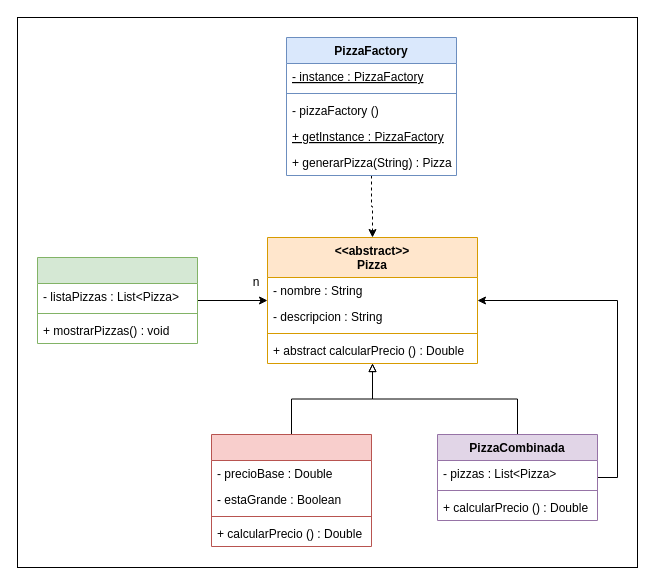
Some shapes in this 655 by 585 pixel diagram are drawn without their labels. Each missing label, with the box of its shape:
PizzaSimple: (210, 434, 372, 546)
Pizzeria: (36, 256, 198, 344)
